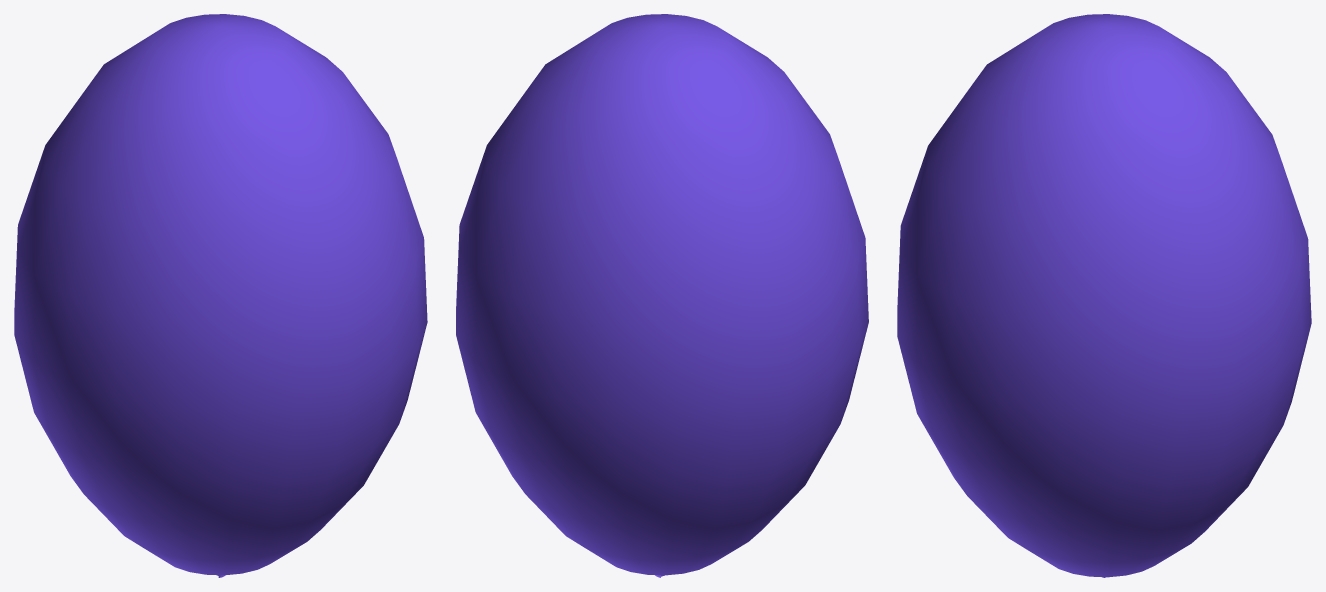
File: globo.FBX
The picture shows the model from 3 angles, left to right: view 1: azimuth 30°, elevation 25°; view 2: azimuth 150°, elevation 25°; view 3: azimuth 270°, elevation 25°; orthographic projection.
Visible parts, largest first — view 1: Sphere001; view 2: Sphere001; view 3: Sphere001.
Part boxes in pixels (x1=…): Sphere001: x1=14, y1=14, x2=427, y2=577; Sphere001: x1=456, y1=14, x2=868, y2=577; Sphere001: x1=897, y1=14, x2=1311, y2=577.
Size of the model in its own units: 155 by 155 by 227.
